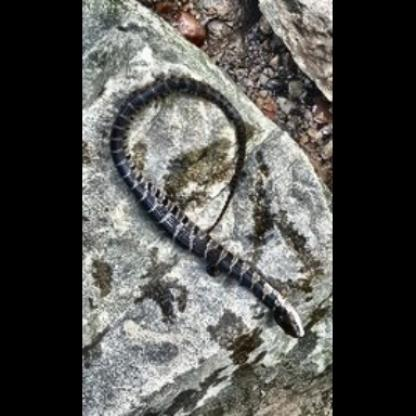Snake: (102, 73, 308, 336)
